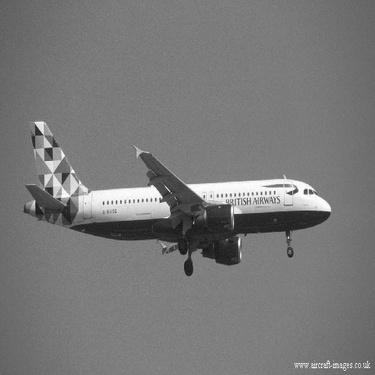airplane: (8, 107, 336, 282)
